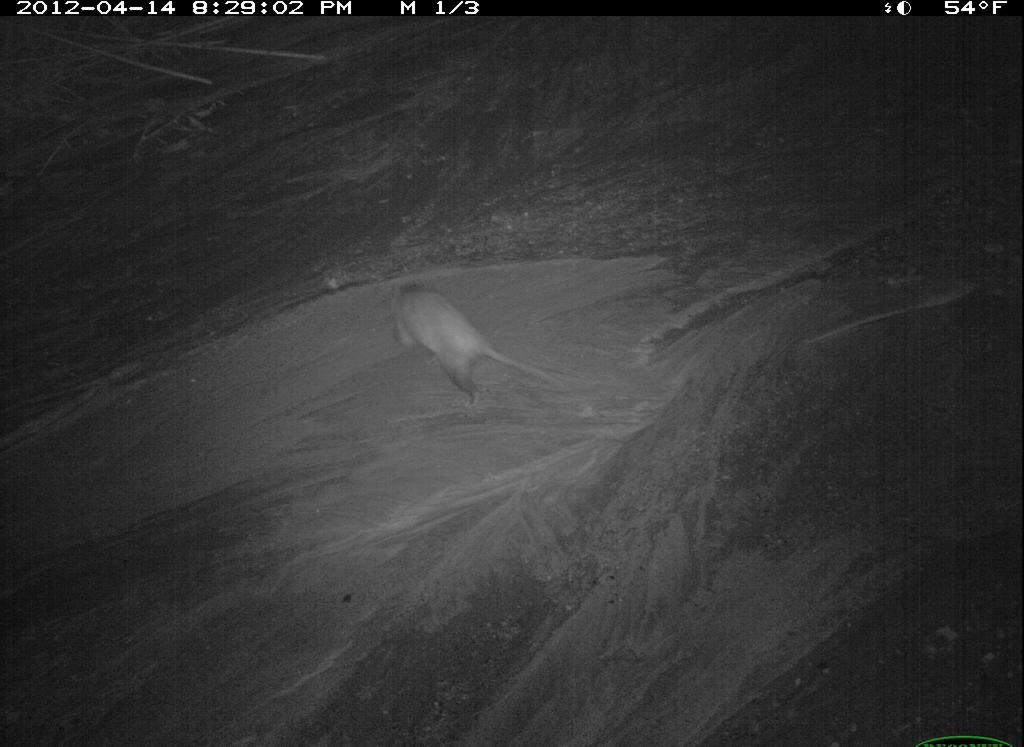opossum: (769, 543, 1024, 747)
